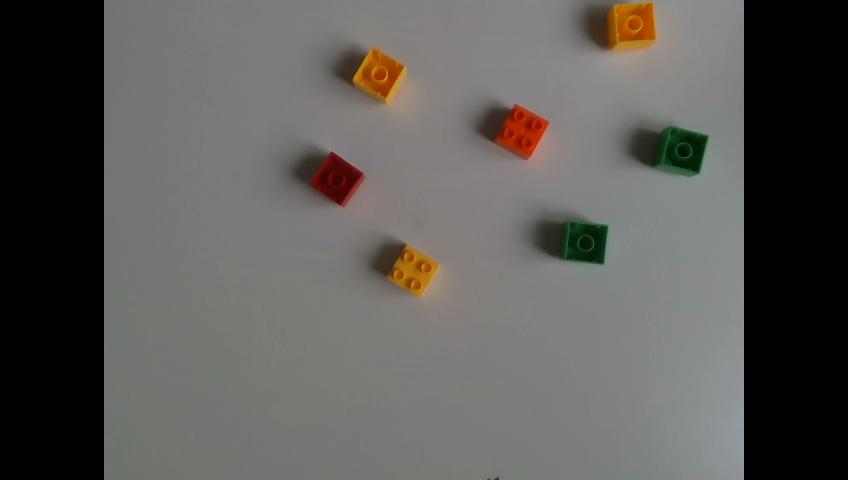2x2_green: (656, 125, 708, 174), (564, 219, 608, 263)
2x2_orange: (496, 104, 551, 159)
2x2_red: (308, 150, 364, 206)
2x2_yellow: (351, 44, 410, 110), (387, 243, 442, 299), (610, 3, 655, 48)
